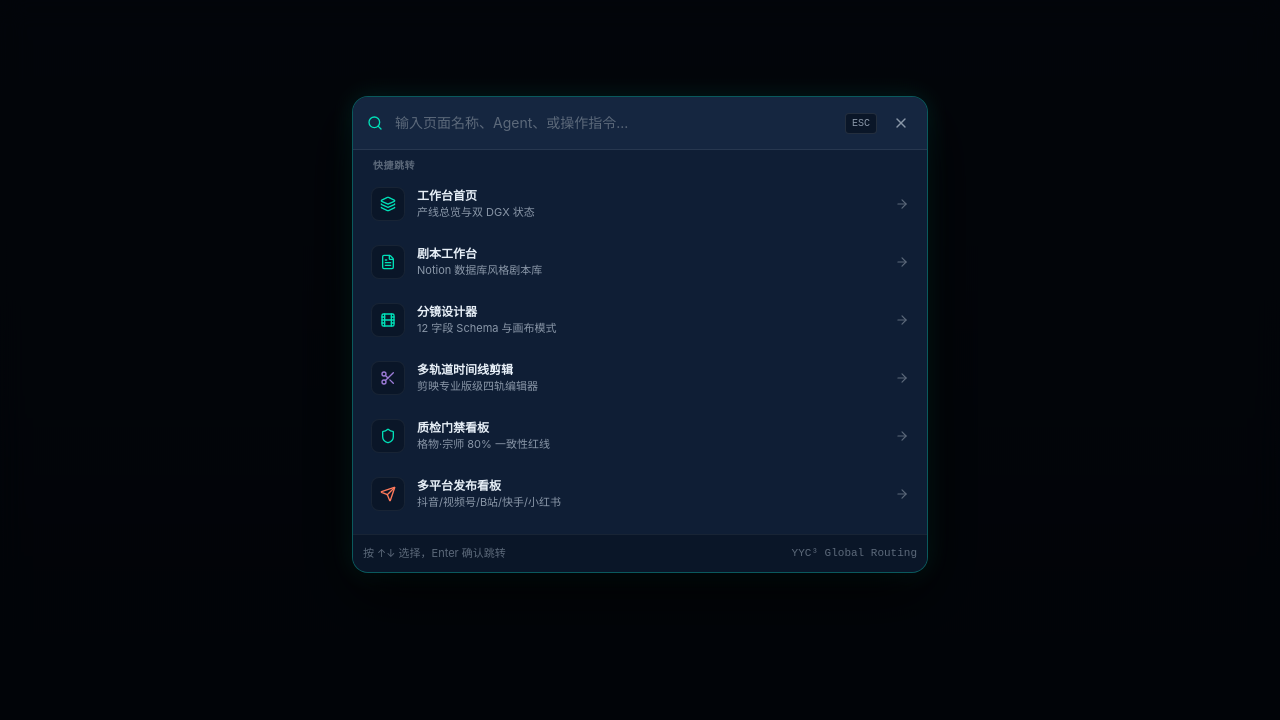
Test: GlobalCommandMenu jsdom 交互升级（R16-B：真实 DOM 状态迁移） › 无结果空态：查询无命中时渲染空态文案且所有分组消失
Type "zzz不存在" into the field with placeholder "输入页面名称、Agent、或操作指令..." at (614, 123), box [395,113,833,133]
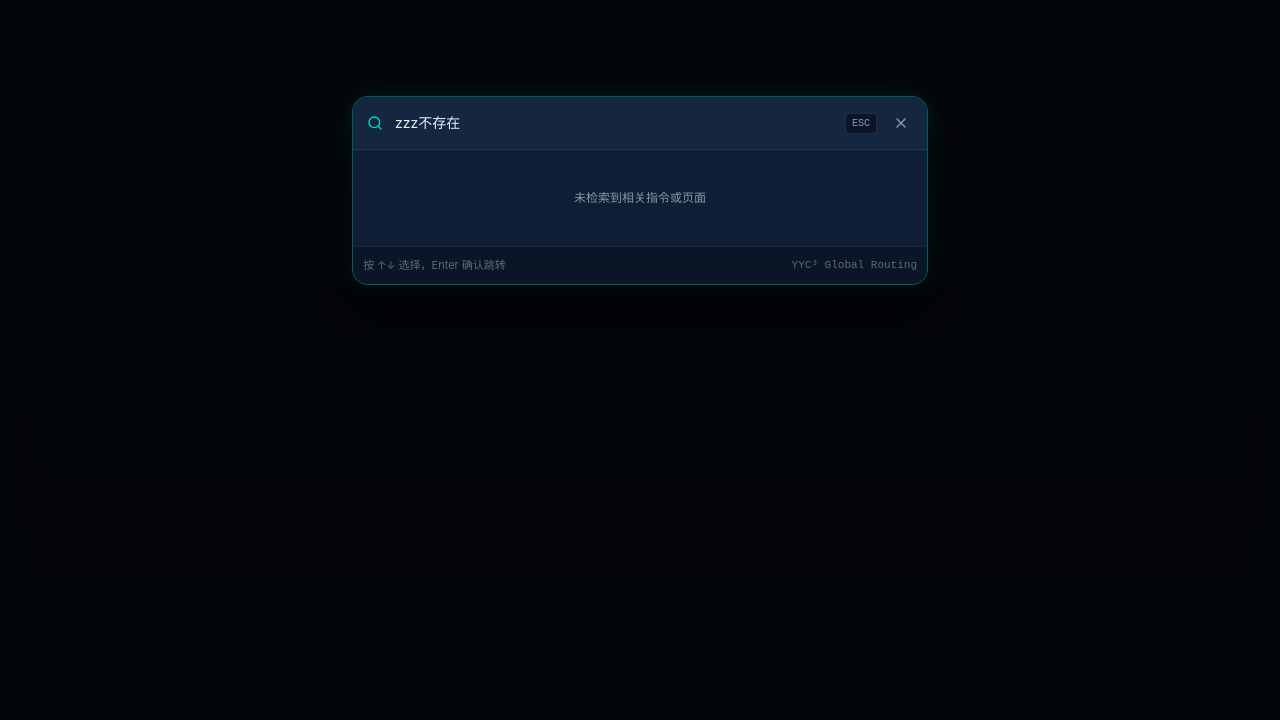
Expected: the text "未检索到相关指令或页面" is shown, [574,190,706,205]
Expected: the text "快捷跳转" is gone
